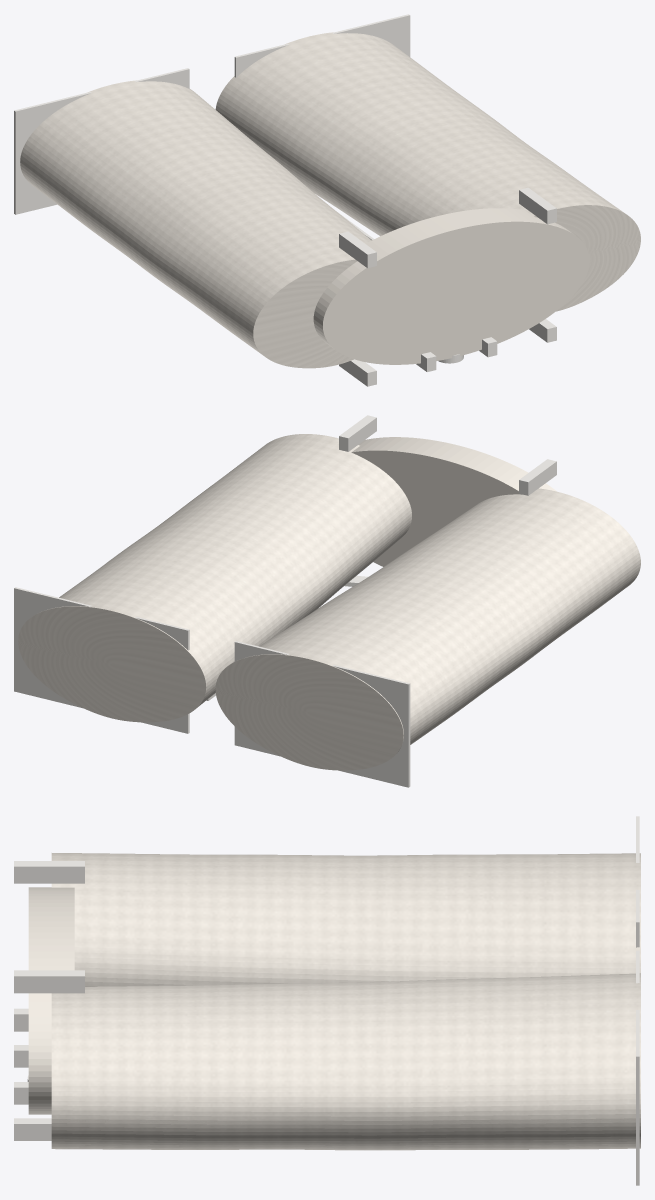
Rendered from calca-wideleg.gltf.
3 views of the same model, one above another, from view 1: azimuth 30°, elevation 25°; view 2: azimuth 150°, elevation 25°; view 3: azimuth 270°, elevation 25° (orthographic). The views are drawn at different scales.
Visible parts, largest first — view 1: leg_L, leg_R, waistband, hem_-1, hem_1, loop_back_0.62, loop_back_-0.62, loop_front_-0.62; view 2: leg_L, leg_R, waistband, hem_-1, hem_1, loop_back_-0.62, loop_back_0.62; view 3: leg_R, leg_L, waistband, loop_back_0.62, loop_back_-0.62, loop_front_0.62, hem_1.
Boxes of the visible parts, x1,y1,x2,y2 form: leg_L: (20,80,371,368); leg_R: (215,32,640,311); waistband: (313,208,589,364); hem_-1: (14,68,189,214); hem_1: (234,14,410,77); loop_back_0.62: (519,187,556,224); loop_back_-0.62: (339,231,376,268); loop_front_-0.62: (339,359,376,386); leg_L: (215,488,640,770); leg_R: (18,434,411,722); waistband: (351,437,556,566); hem_-1: (234,641,410,787); hem_1: (14,587,189,733); loop_back_-0.62: (519,459,556,495); loop_back_0.62: (339,415,376,451); leg_R: (51,973,640,1150); leg_L: (51,853,640,986); waistband: (28,887,74,1114); loop_back_0.62: (14,970,84,993); loop_back_-0.62: (14,861,84,883); loop_front_0.62: (14,1118,51,1140); hem_1: (636,950,639,1185).
Bounding box in the file's own units: 2.72 × 0.89 × 3.
Materials: 2 (1 with a texture image).
